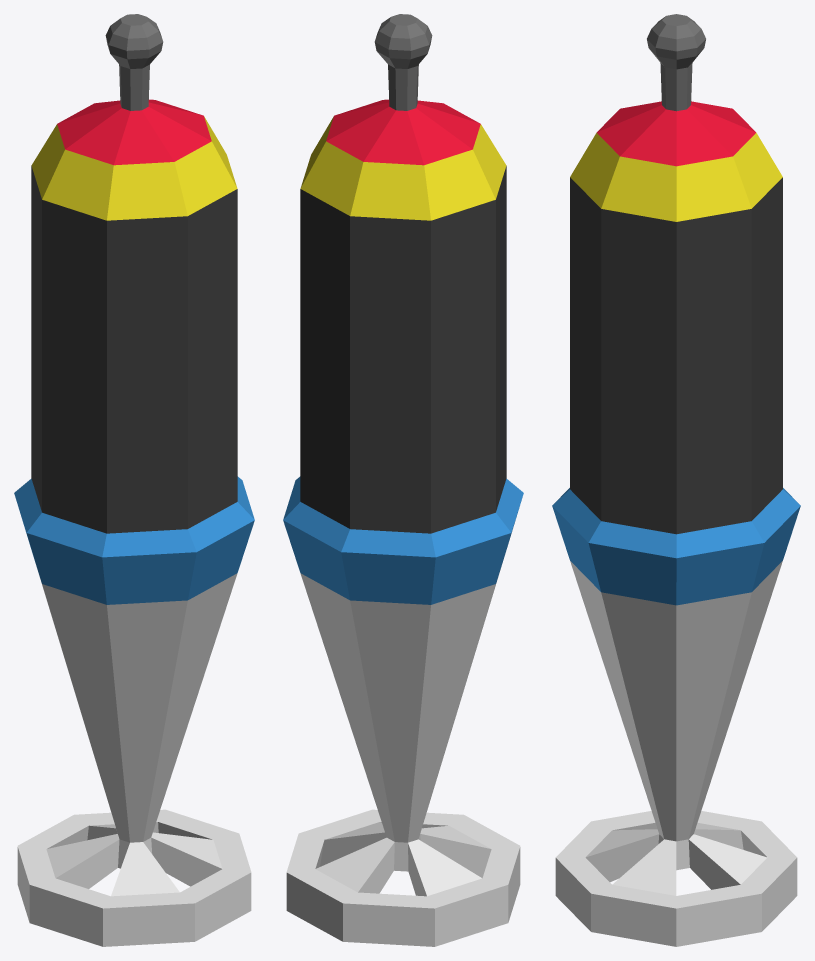
The model's file is Bomb_1.fbx.
The picture shows the model from 3 angles, left to right: view 1: azimuth 30°, elevation 25°; view 2: azimuth 150°, elevation 25°; view 3: azimuth 270°, elevation 25°; orthographic projection.
Parts seen in each view (by area): view 1: Cylinder.003; view 2: Cylinder.003; view 3: Cylinder.003.
Part boxes in pixels (left/top/right/bottom): Cylinder.003: left=14, top=14, right=254, bottom=946; Cylinder.003: left=283, top=14, right=523, bottom=946; Cylinder.003: left=552, top=14, right=800, bottom=946.
Bounding box in the file's own units: 0.0737 × 0.2861 × 0.0737.
